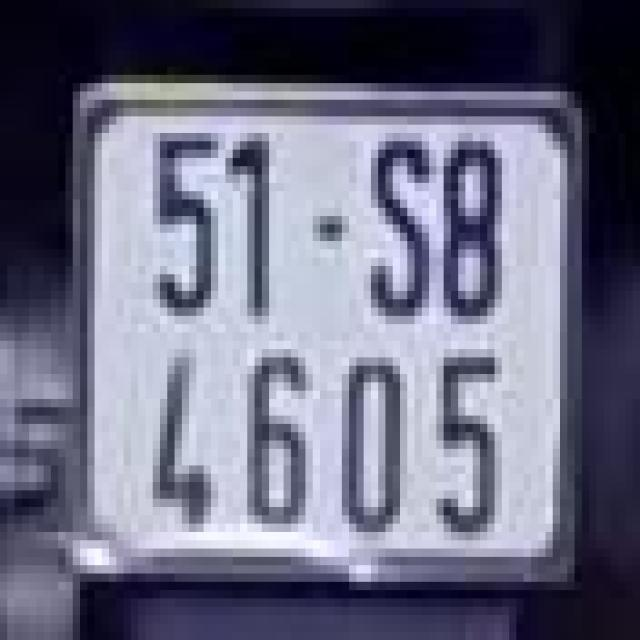0: (334, 345, 414, 544)
1: (222, 120, 302, 328)
4: (138, 341, 218, 532)
5: (429, 345, 524, 544), (146, 125, 226, 324)
6: (240, 337, 313, 536)
8: (436, 129, 502, 328)
S: (360, 120, 440, 337)
